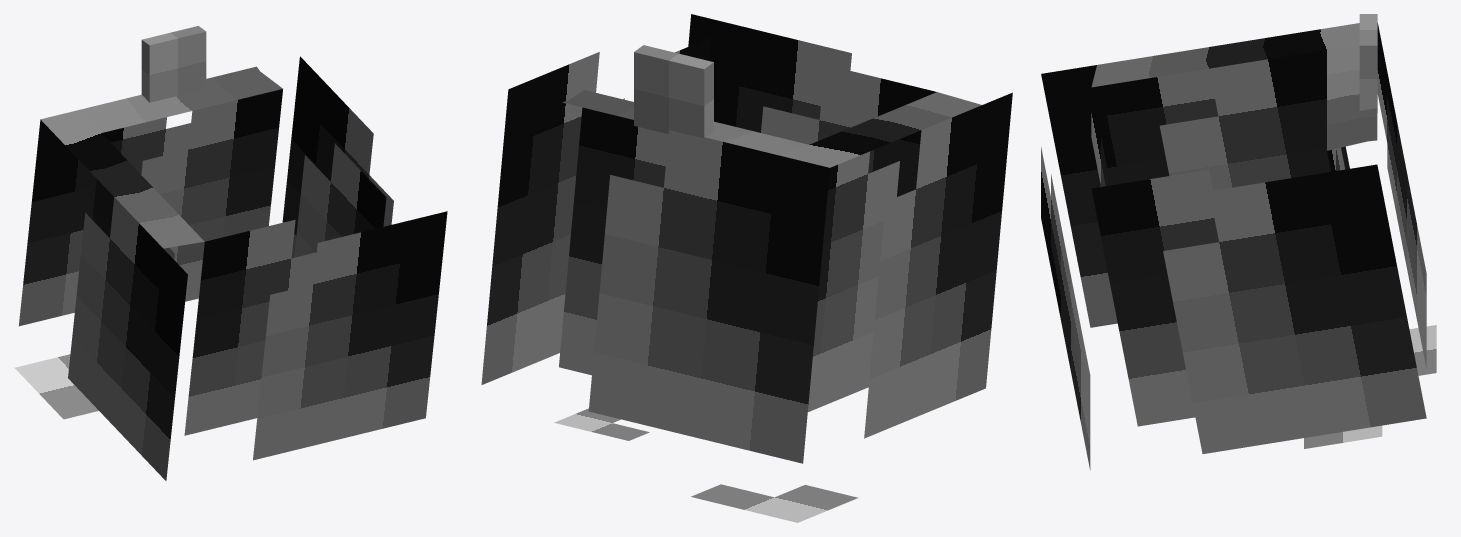
The model's file is treetap_old.obj.
3 renders of one model, left to right at view 1: azimuth 30°, elevation 25°; view 2: azimuth 150°, elevation 25°; view 3: azimuth 270°, elevation 25°, orthographic. The views are drawn at different scales.
Visible parts, largest first — view 1: bucket, ring; view 2: bucket, ring; view 3: bucket, ring.
Part boxes in pixels (left/top/right/bottom): bucket: left=14, top=56, right=447, bottom=480; ring: left=141, top=26, right=206, bottom=102; bucket: left=481, top=14, right=1012, bottom=522; ring: left=634, top=45, right=713, bottom=138; bucket: left=1041, top=23, right=1436, bottom=470; ring: left=1359, top=14, right=1377, bottom=112.
Bounding box in the file's own units: 0.4 × 0.5442 × 0.4754.
